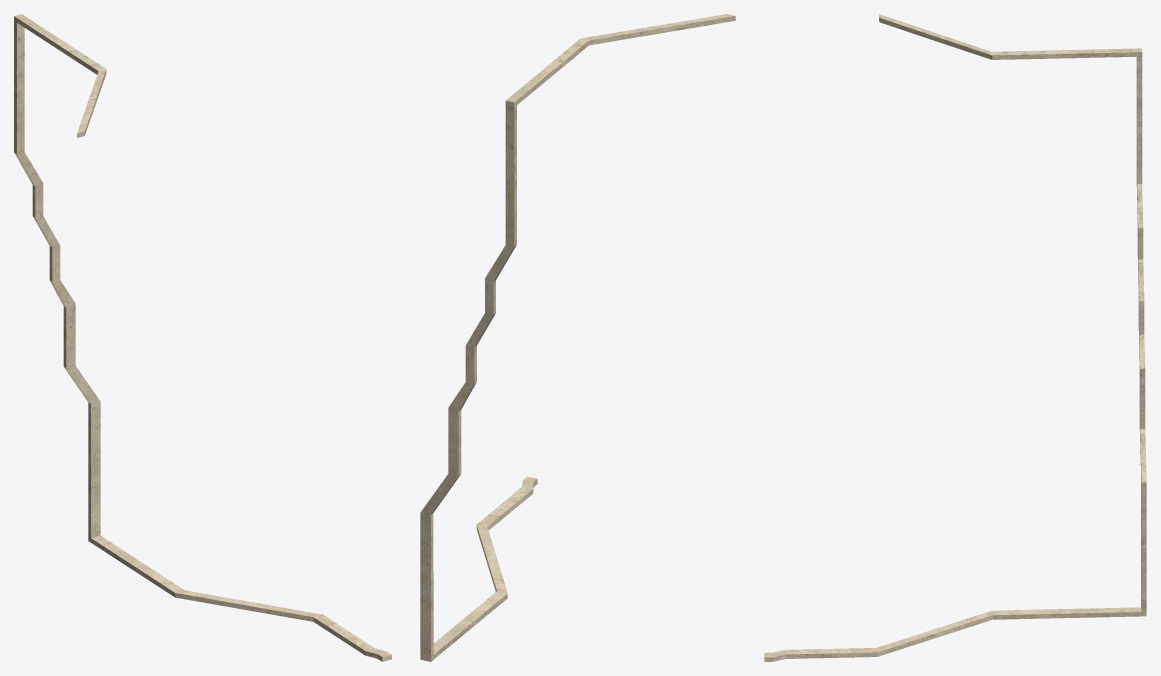
The model's file is concrete_42.fbx.
3 renders of one model, left to right at view 1: azimuth 30°, elevation 25°; view 2: azimuth 150°, elevation 25°; view 3: azimuth 270°, elevation 25°, orthographic. The views are drawn at different scales.
Parts seen in each view (by area): view 1: concrete_42; view 2: concrete_42; view 3: concrete_42.
Boxes of the visible parts, bbox=[...] form: concrete_42: bbox=[14, 14, 391, 661]; concrete_42: bbox=[420, 14, 735, 661]; concrete_42: bbox=[764, 14, 1146, 661].
Bounding box in the file's own units: 561 × 1142 × 751.
